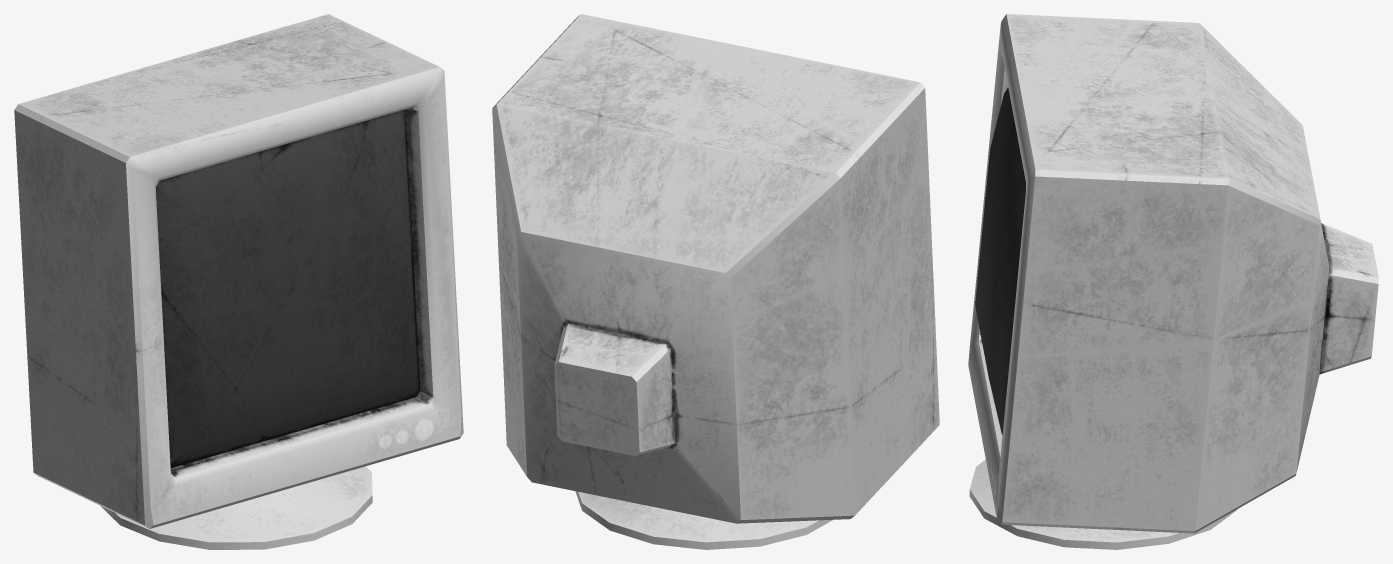
Rendered from PC_Monitor.glb.
3 renders of one model, left to right at view 1: azimuth 30°, elevation 25°; view 2: azimuth 150°, elevation 25°; view 3: azimuth 270°, elevation 25°, orthographic.
Visible parts, largest first — view 1: PC_Monitor; view 2: PC_Monitor; view 3: PC_Monitor.
Part boxes in pixels (x1,y1,x2,y2): PC_Monitor: [14, 14, 463, 549]; PC_Monitor: [492, 14, 939, 549]; PC_Monitor: [968, 14, 1378, 549].
Bounding box in the file's own units: 0.4228 × 0.4743 × 0.4376.
Materials: 1 (1 with a texture image).
